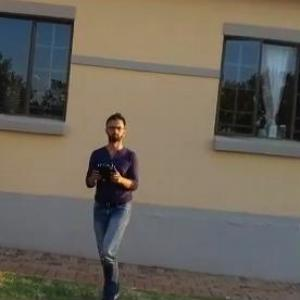follow: (77, 106, 144, 299)
